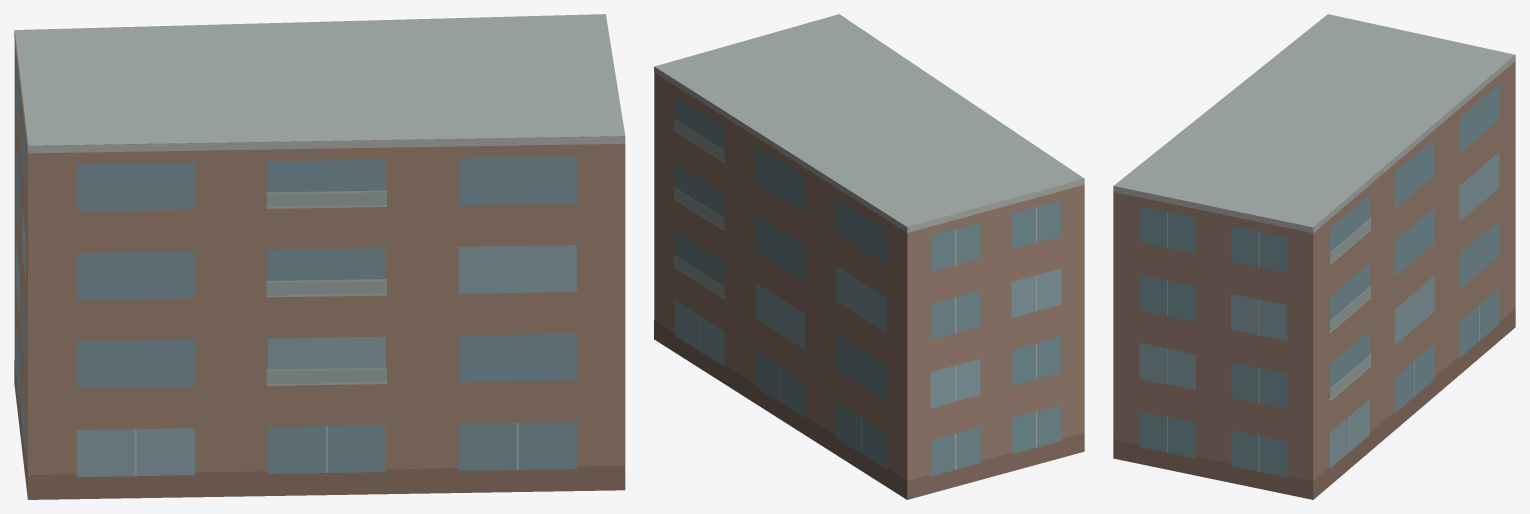
The model's file is survey-upis-32890110.glb.
3 renders of one model, left to right at view 1: azimuth 30°, elevation 25°; view 2: azimuth 150°, elevation 25°; view 3: azimuth 270°, elevation 25°, orthographic. The views are drawn at different scales.
Parts seen in each view (by area): view 1: survey-upis-32890110.tmp; view 2: survey-upis-32890110.tmp; view 3: survey-upis-32890110.tmp.
Part boxes in pixels (x1,y1,x2,y2): survey-upis-32890110.tmp: (14, 14, 625, 499); survey-upis-32890110.tmp: (654, 14, 1084, 499); survey-upis-32890110.tmp: (1113, 14, 1515, 499).
Size of the model in its own units: 18.82 by 11.2 by 14.99.
